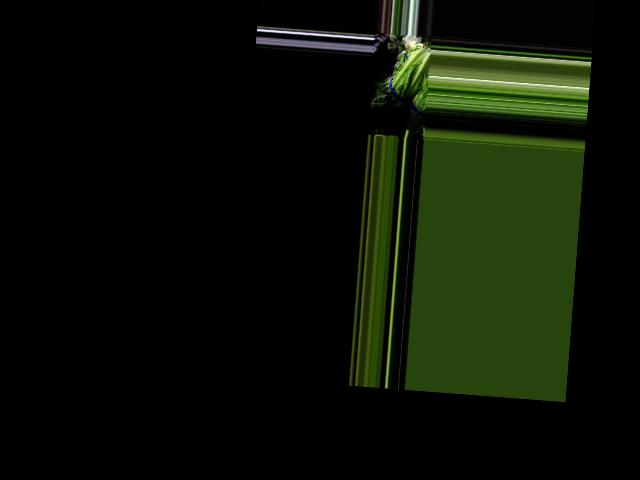lettuce: (374, 47, 431, 116)
